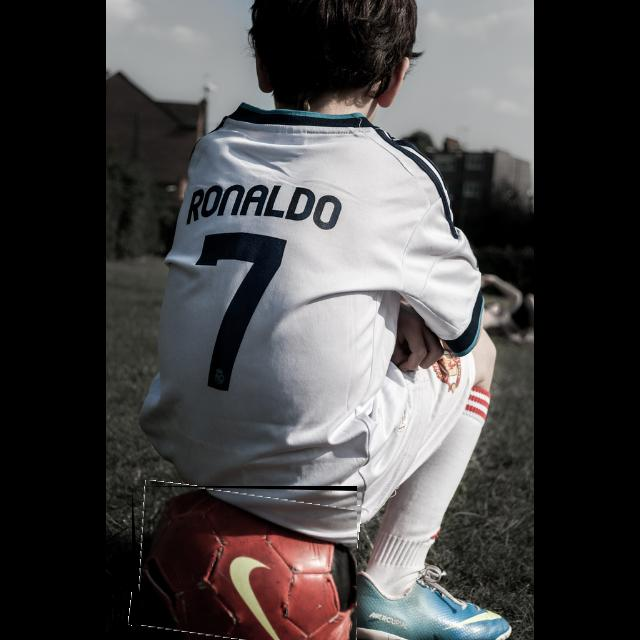Football: (132, 486, 357, 640)
